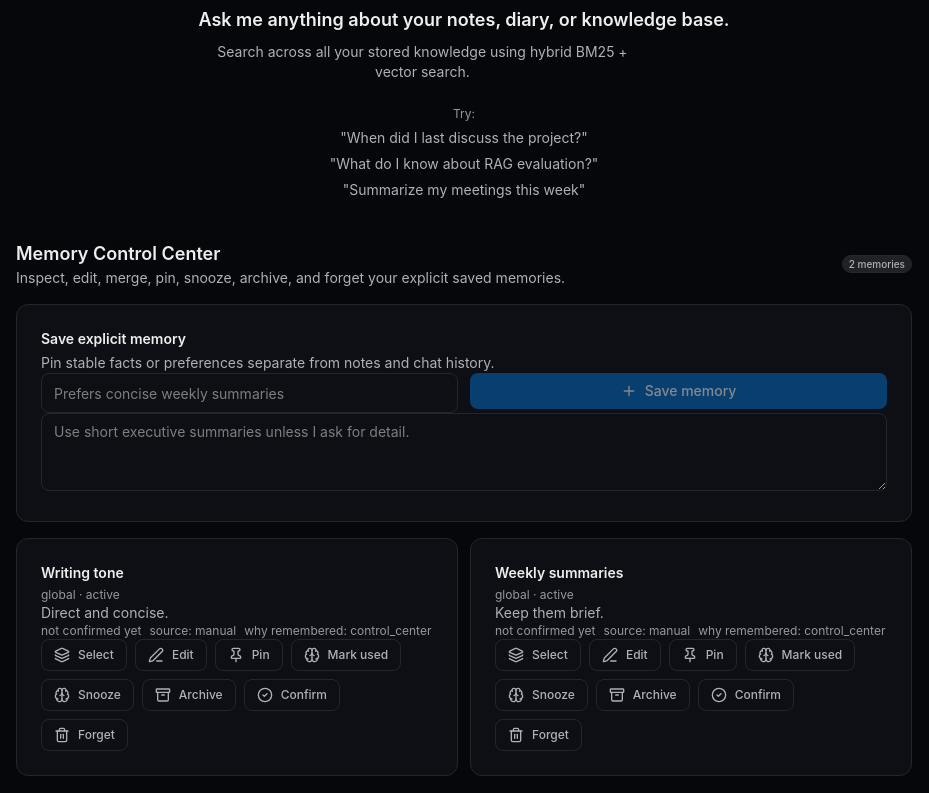
Test: MemoryPage › allows selecting memories for merge
The image size is (929, 793).
(page scrolled)
Expected: the heading "Memory Control Center" is shown, [16,243,220,264]
Expected: the heading "Writing tone" is shown, [41,563,124,583]
Step 1. Click the button "Select" below "Direct and concise." → coordinates (84, 655), box [41,639,127,671]
(page scrolled)
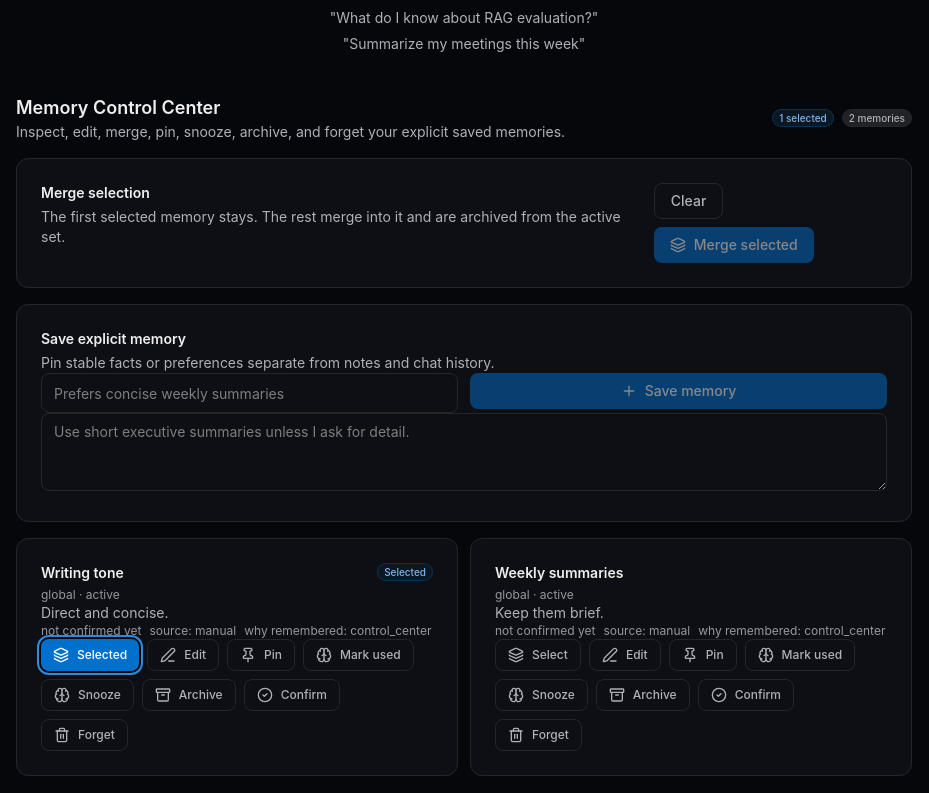
Step 2. Click the button "Select" → coordinates (538, 655), box [495,639,581,671]
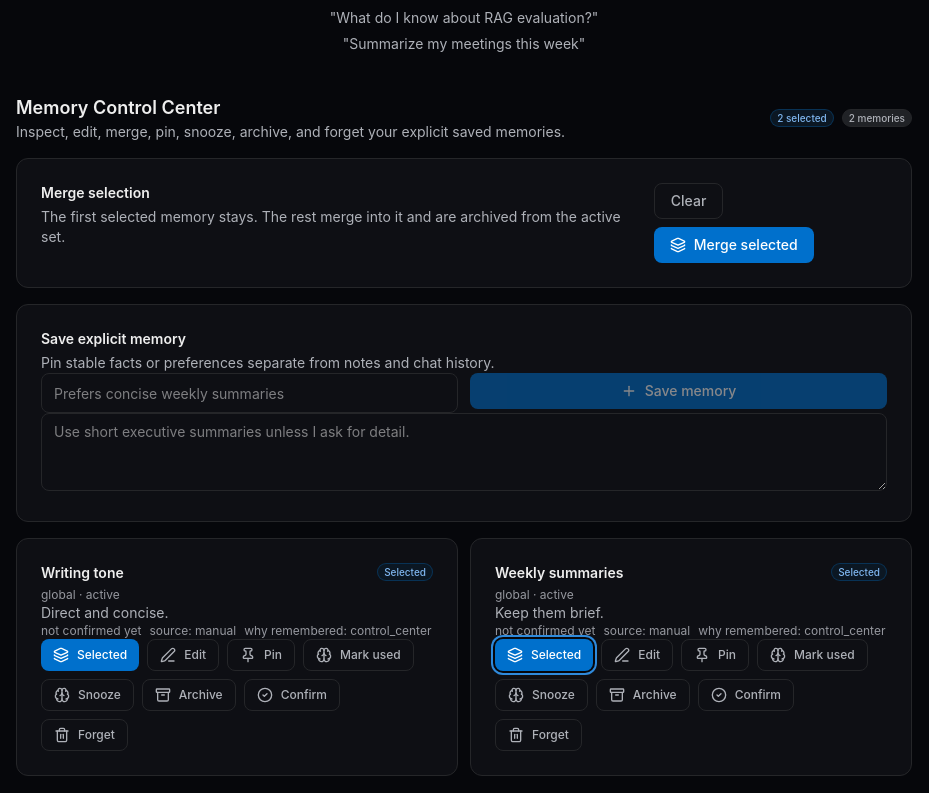
Now the text "2 selected" is shown, box [770,109,834,127]
Step 3. Click the button "Merge selected" → coordinates (734, 245), box [654,227,814,263]
(page scrolled)
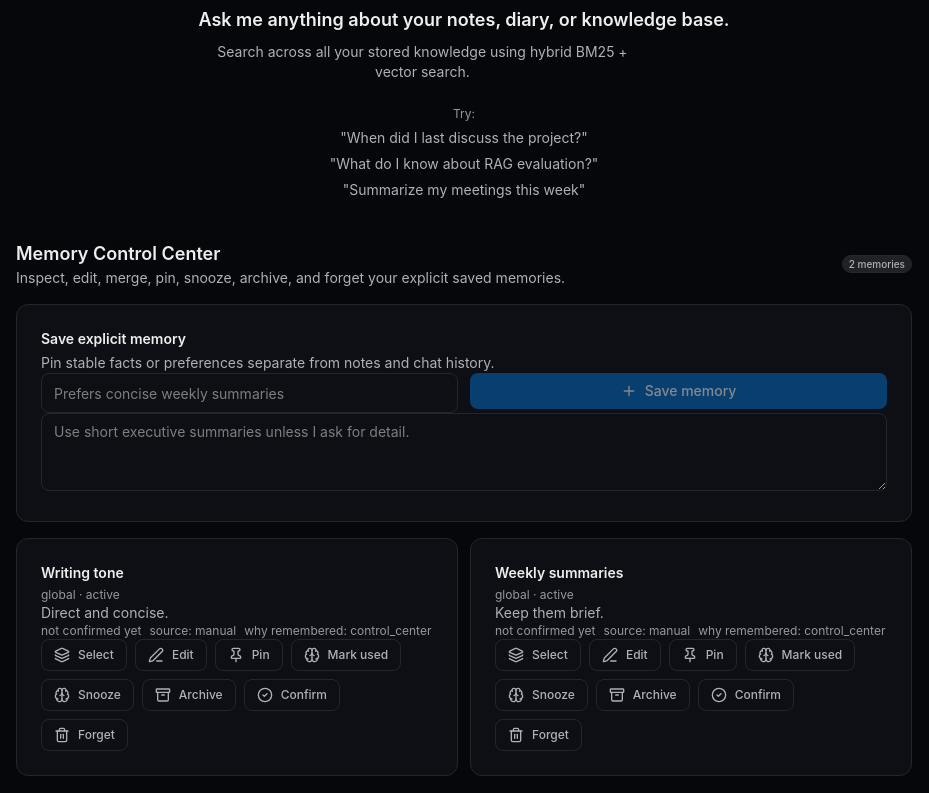
Now the text "2 selected" is gone
